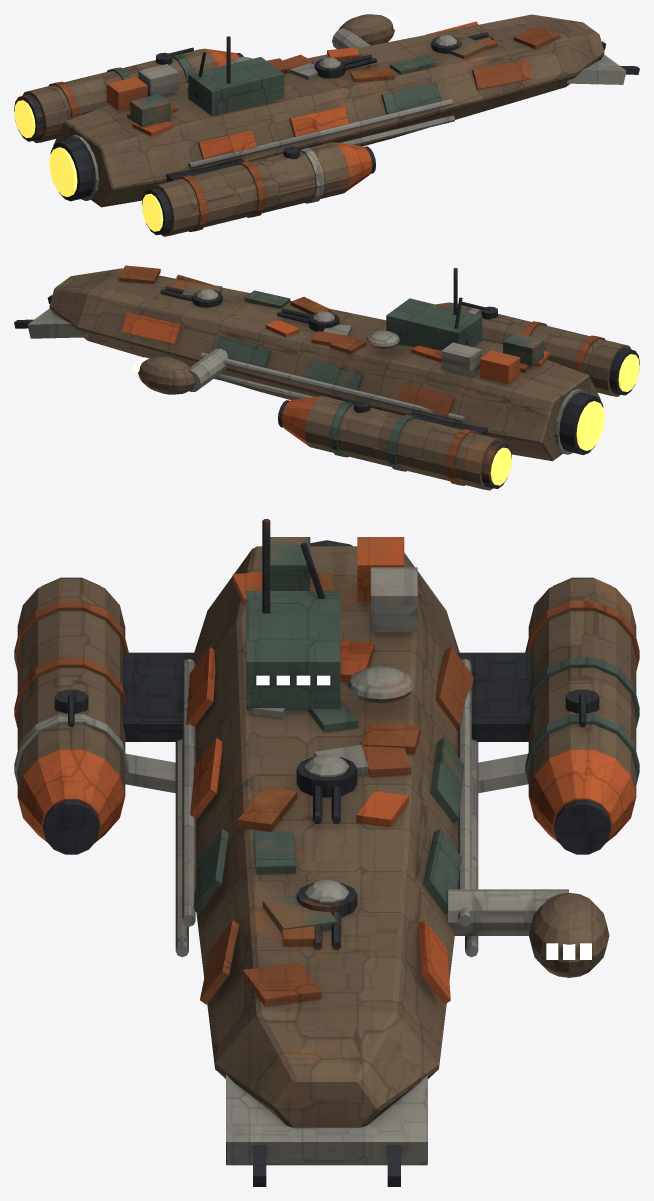
The model's file is pirate-frigate.glb.
The picture shows the model from 3 angles, top to bottom: view 1: azimuth 30°, elevation 25°; view 2: azimuth 150°, elevation 25°; view 3: azimuth 270°, elevation 25°; orthographic projection. The views are drawn at different scales.
Parts seen in each view (by area): view 1: Pirate_IPV1; view 2: Pirate_IPV1; view 3: Pirate_IPV1.
Boxes of the visible parts, box(x1,y1,x2,y2) form: Pirate_IPV1: box(14, 14, 639, 236); Pirate_IPV1: box(14, 265, 639, 490); Pirate_IPV1: box(14, 519, 639, 1186).
Bounding box in the file's own units: 1.92 × 0.493 × 0.93.
Materials: 8 (8 with a texture image).
